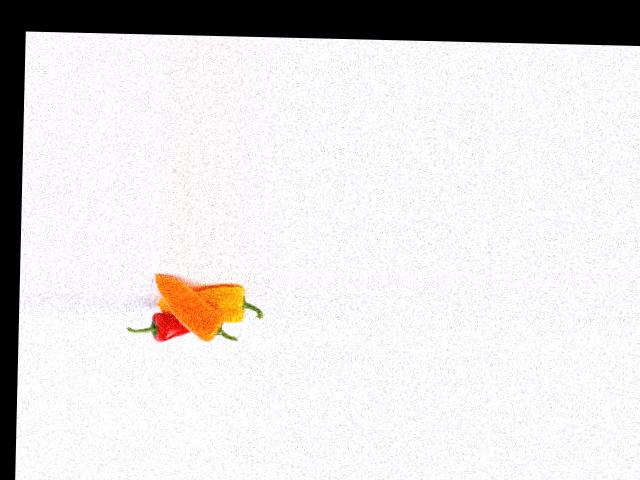bell_pepper: (184, 276, 267, 328)
